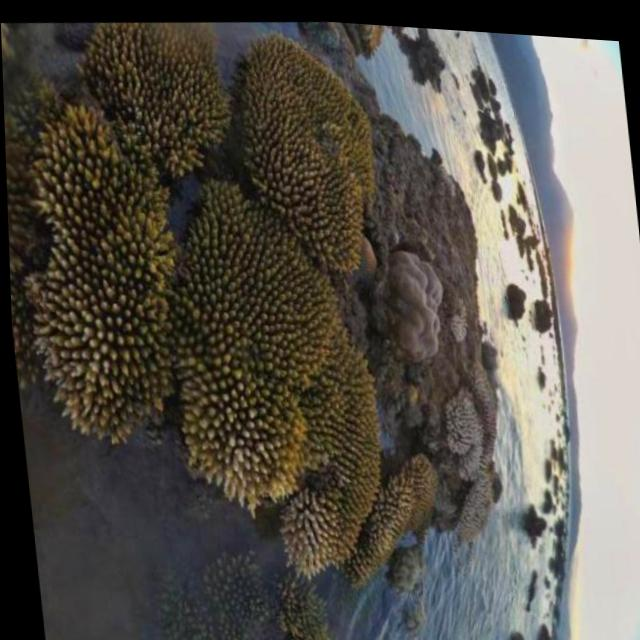Healthy Coral: (0, 0, 518, 602)
